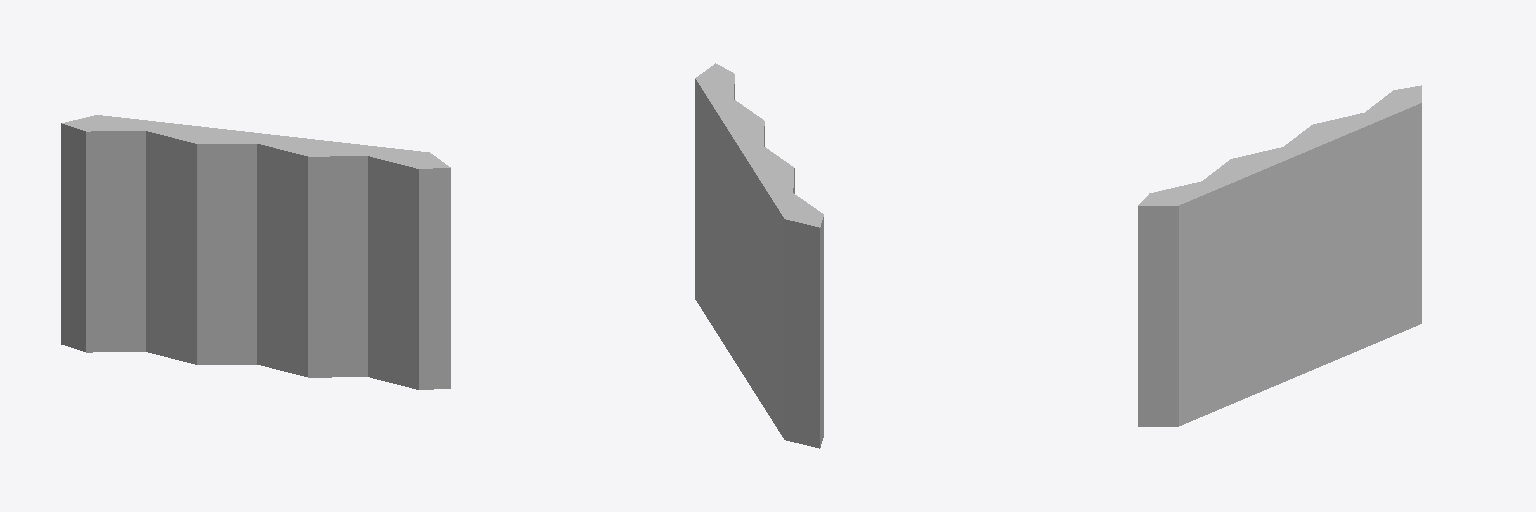
File: cliff_diagonal_rock.obj
3 views of the same model, side by side, from view 1: azimuth 30°, elevation 25°; view 2: azimuth 150°, elevation 25°; view 3: azimuth 270°, elevation 25° (orthographic).
Visible parts, largest first — view 1: cliff_diagonal_rock; view 2: cliff_diagonal_rock; view 3: cliff_diagonal_rock.
Part boxes in pixels (bbox=[...]): cliff_diagonal_rock: bbox=[61, 115, 450, 389]; cliff_diagonal_rock: bbox=[695, 63, 823, 448]; cliff_diagonal_rock: bbox=[1138, 85, 1421, 426].
Size of the model in its own units: 1.17 by 1 by 1.17.